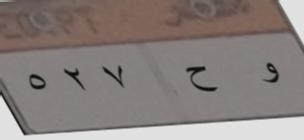2: (59, 59, 87, 98)
5: (25, 68, 49, 98)
7: (101, 58, 128, 95)
7aa: (180, 59, 221, 99)
waw: (253, 57, 284, 92)
